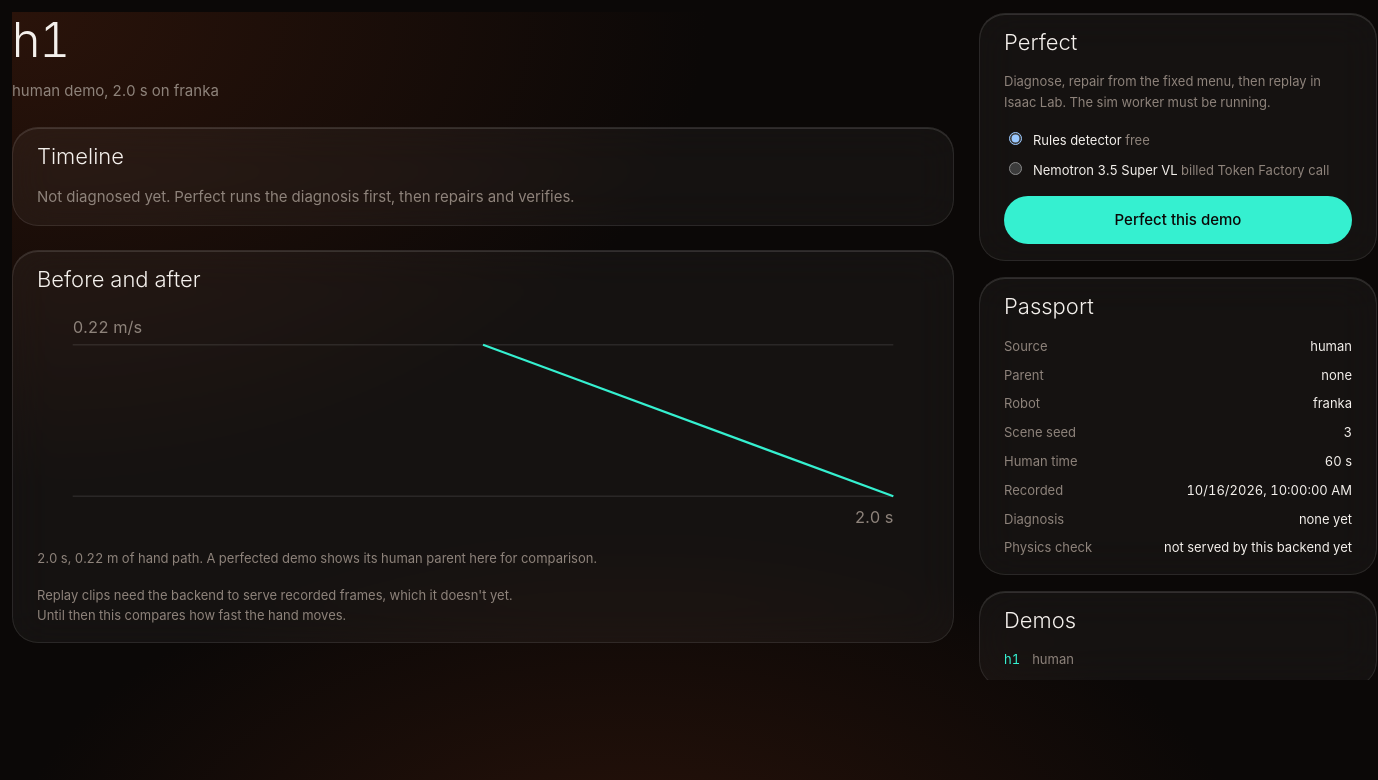
Review page › tells the user to start the sim worker on 503
What coordinates should you click on to do the following:
click the button "Perfect this demo"
I would click on:
 (1178, 220)
Its box is x1=1004 y1=196 x2=1352 y2=244.
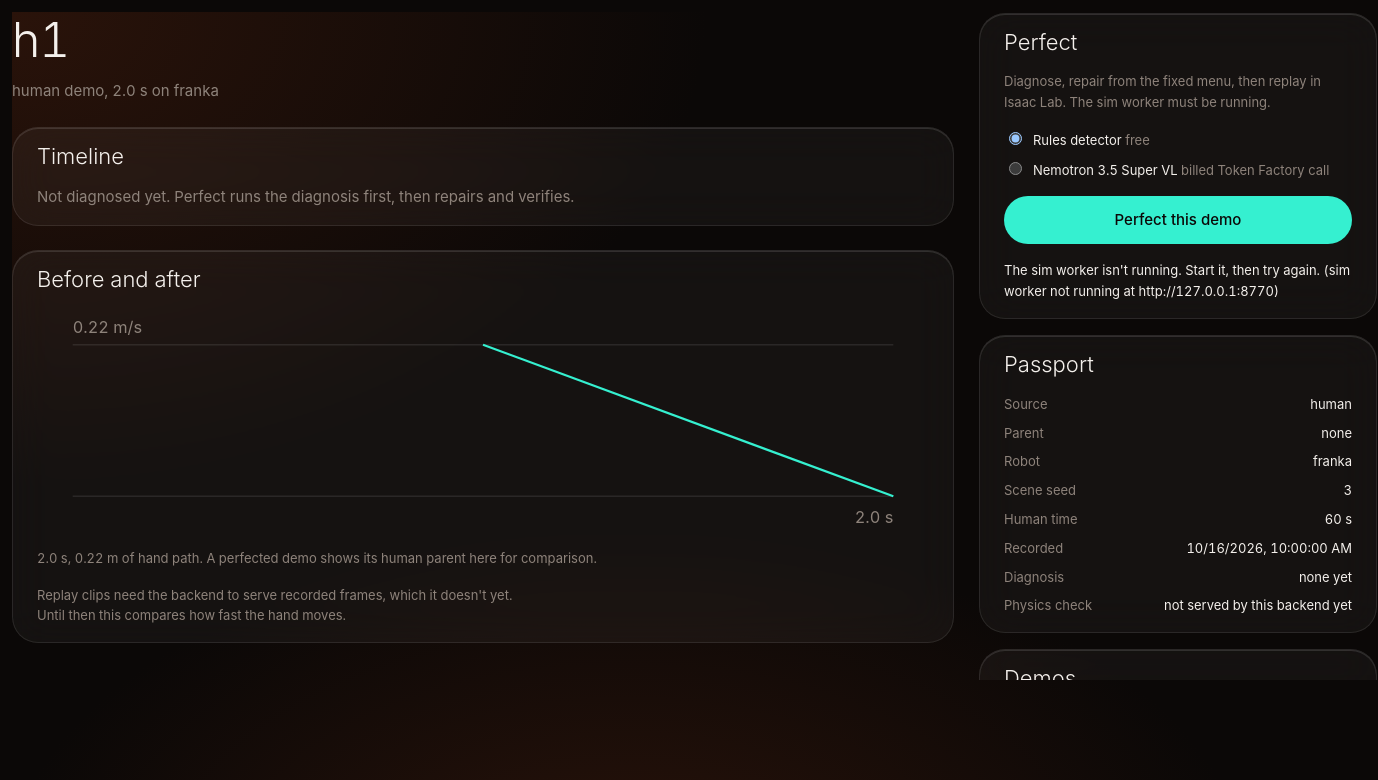
Now the text "sim worker isn't running" is shown, box x1=1004 y1=262 x2=1350 y2=299
